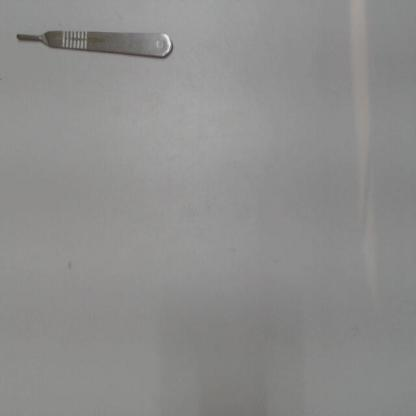No.3 BP Handle: (12, 23, 173, 68)
